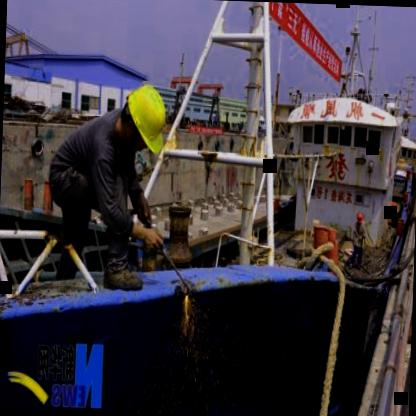helmet: (116, 78, 178, 158)
